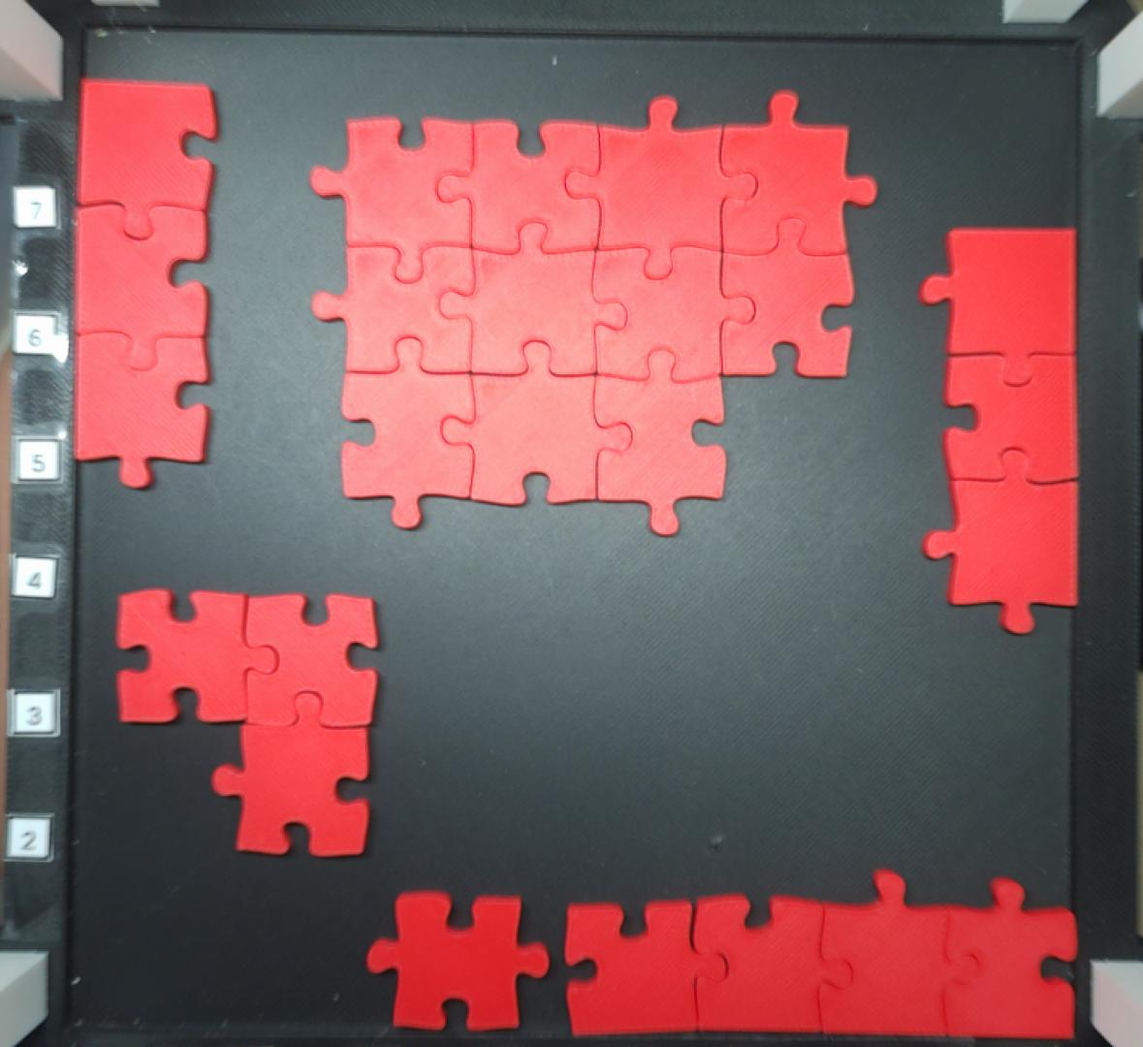p_1: (365, 889, 553, 1034)
p_3: (111, 586, 382, 862), (916, 223, 1084, 638), (71, 76, 222, 492)
p_4: (562, 863, 1080, 1043)
p_m: (306, 87, 879, 538)
